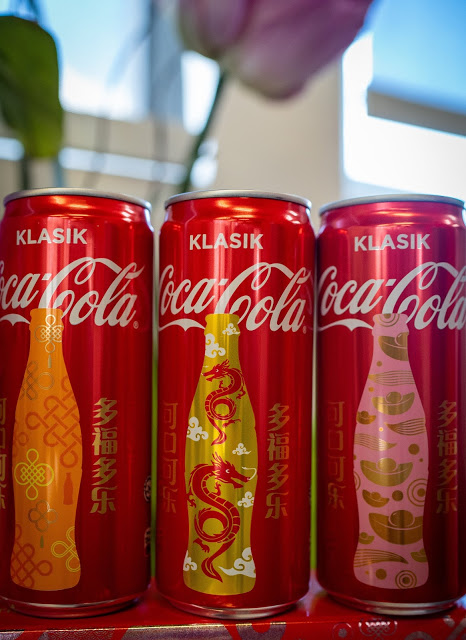cocacola_pink_feather: (319, 199, 466, 613)
cocacola_yellow_dragons: (158, 194, 313, 615)
cocacola_yellow_pattern: (1, 189, 152, 614)
